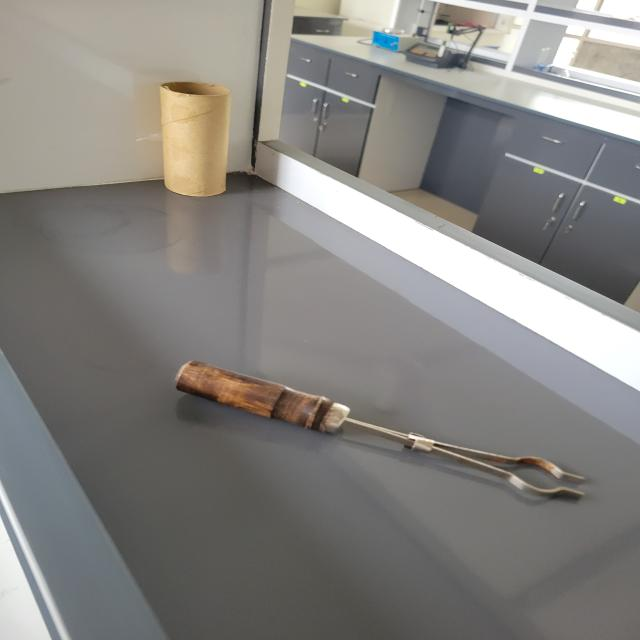TestTube_Holder: (142, 308, 606, 531)
